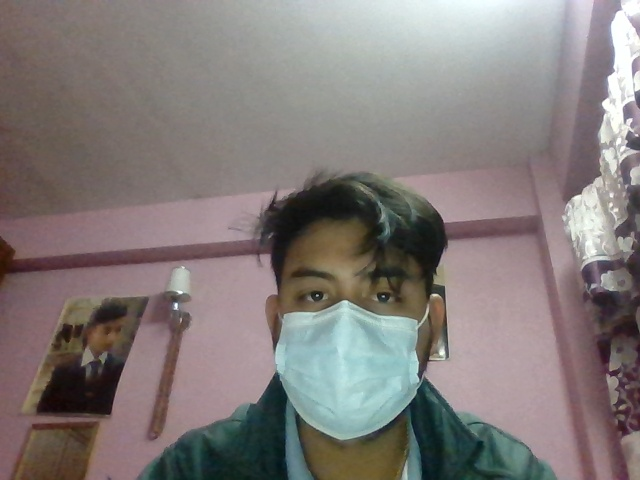mask: (262, 297, 437, 444)
